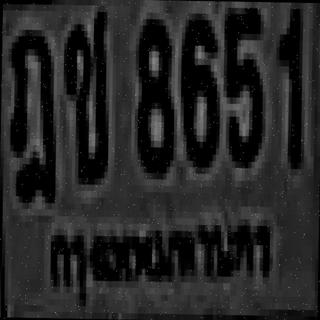A10: (62, 5, 107, 178)
A14: (7, 23, 56, 196)
N01: (274, 2, 300, 162)
N05: (222, 1, 261, 162)
N06: (178, 7, 217, 161)
N08: (134, 12, 172, 166)
P04: (43, 207, 276, 297)
